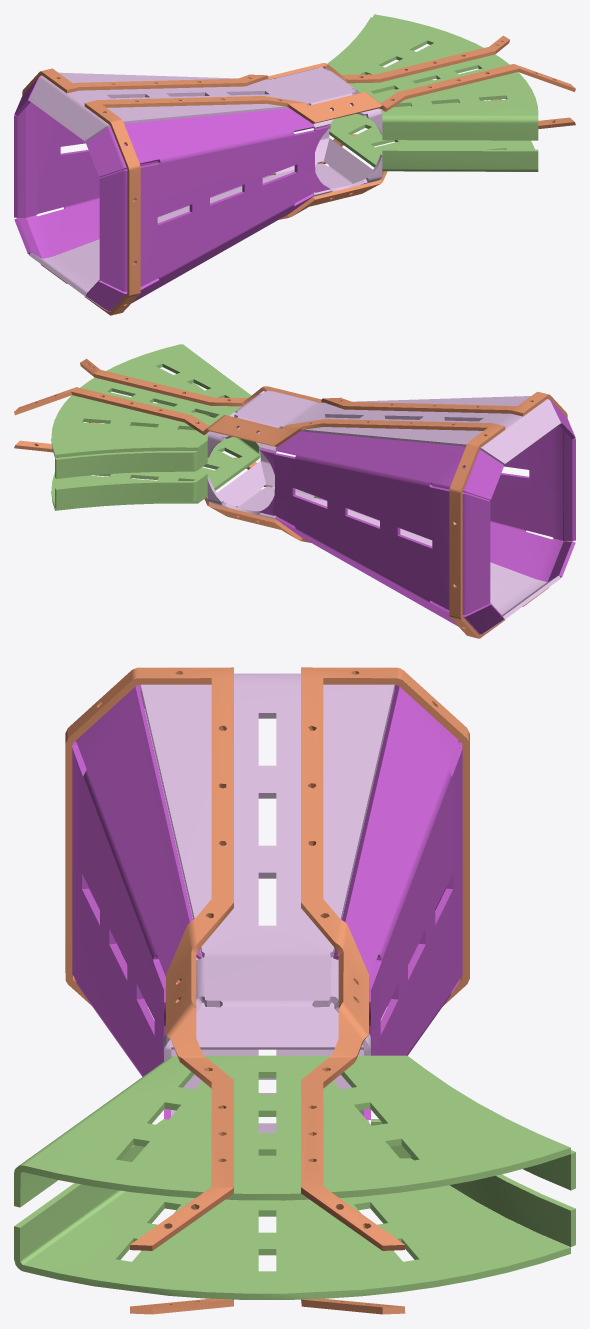
The model's file is Stormbreaker_outside.glb.
3 renders of one model, top to bottom at view 1: azimuth 30°, elevation 25°; view 2: azimuth 150°, elevation 25°; view 3: azimuth 270°, elevation 25°, orthographic. The views are drawn at different scales.
Parts seen in each view (by area): view 1: Part 16, Part 18, Part 15, Part 17, Part 26, Part 24, Part 14, Part 27, Part 28; view 2: Part 15, Part 18, Part 16, Part 17, Part 27, Part 14, Part 26, Part 24, Part 25, Part 19, Part 29; view 3: Part 17, Part 18, Part 24, Part 16, Part 15, Part 27, Part 26, Part 25, Part 29, Part 28, Part 14, Part 19.
Part boxes in pixels (box(x1,y1,x2,y2)): Part 16: box(85, 108, 330, 311); Part 18: box(327, 14, 538, 140); Part 15: box(14, 75, 269, 258); Part 17: box(29, 67, 382, 141); Part 26: box(84, 64, 575, 232); Part 24: box(329, 79, 538, 171); Part 14: box(29, 125, 382, 311); Part 27: box(22, 35, 509, 94); Part 28: box(84, 117, 575, 315); Part 15: box(259, 431, 503, 634); Part 18: box(51, 344, 251, 458); Part 16: box(319, 396, 575, 581); Part 17: box(207, 390, 560, 464); Part 27: box(14, 387, 505, 555); Part 14: box(207, 448, 560, 634); Part 26: box(80, 358, 567, 417); Part 24: box(51, 382, 260, 510); Part 25: box(55, 473, 207, 508); Part 19: box(55, 444, 207, 478); Part 29: box(14, 440, 505, 638); Part 17: box(140, 673, 394, 1061); Part 18: box(14, 1055, 570, 1207); Part 24: box(14, 1119, 570, 1299); Part 16: box(72, 685, 201, 1119); Part 15: box(333, 685, 462, 1119); Part 27: box(301, 667, 469, 1250); Part 26: box(65, 667, 233, 1250); Part 25: box(371, 1119, 575, 1246); Part 29: box(301, 860, 469, 1314); Part 28: box(65, 861, 233, 1314); Part 14: box(147, 1002, 387, 1132); Part 19: box(523, 1150, 575, 1190).
Bounding box in the file's own units: 0.3004 × 0.115 × 0.1597.
